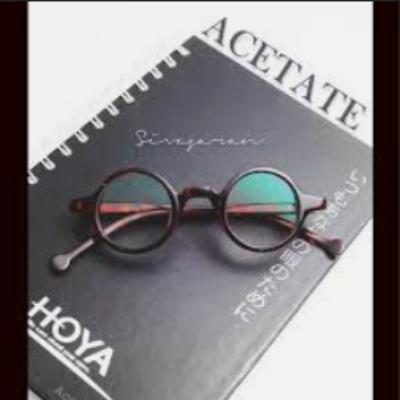glasses: (50, 165, 344, 287)
